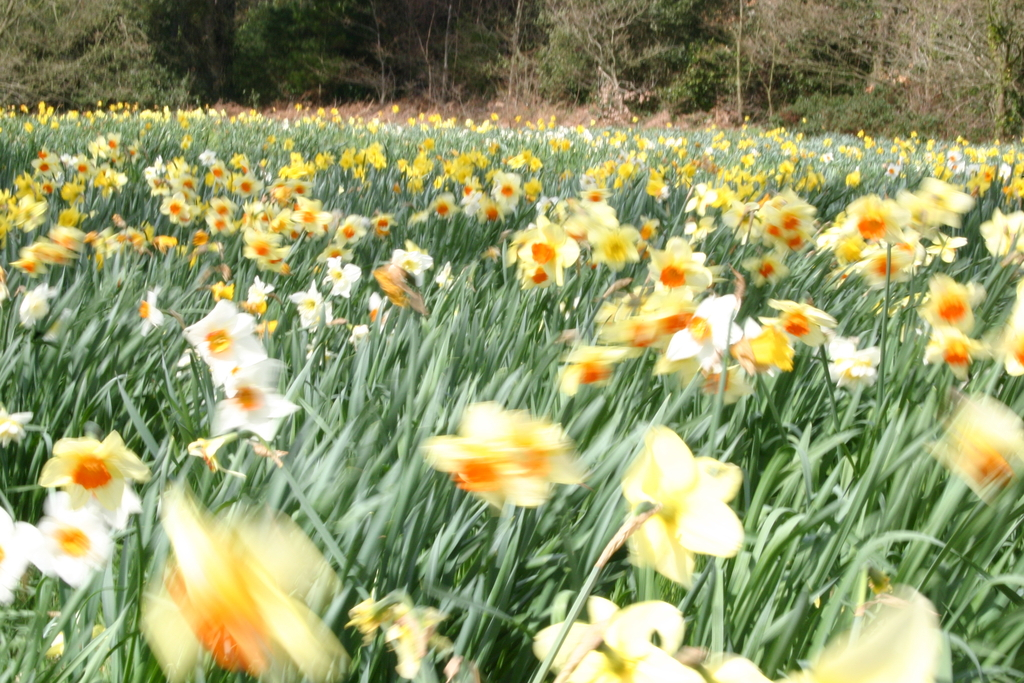Tree: (837, 0, 1023, 136), (0, 0, 188, 102), (755, 0, 876, 124), (544, 0, 643, 113), (236, 0, 332, 101), (638, 0, 716, 108), (164, 0, 261, 85), (456, 0, 544, 83), (346, 1, 394, 102), (401, 0, 453, 92)
